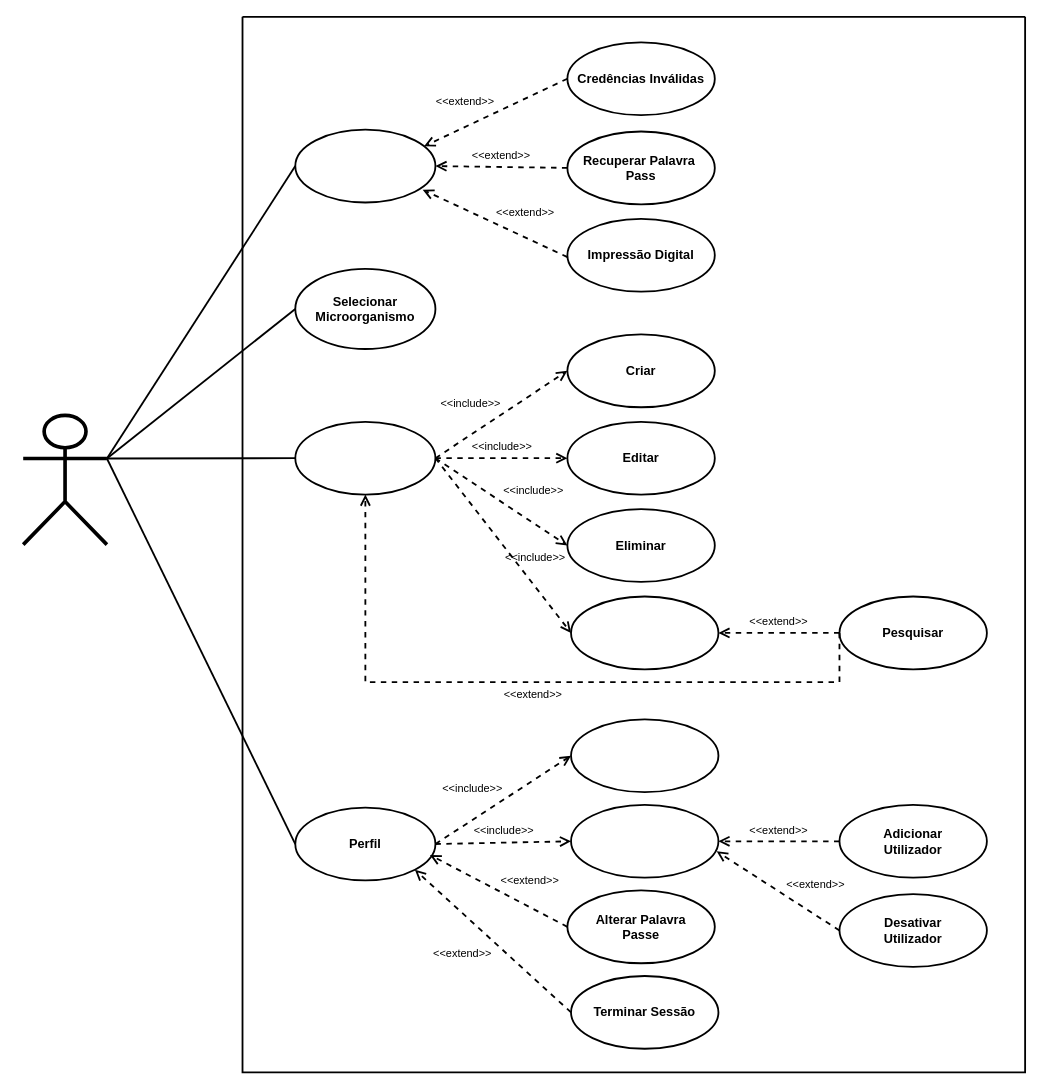
Some shapes in this 1042 by 1088 pixel diagram are drawn without their labels. The box of each missing label's shape, as (x1, y1, x2, y2) in pixels:
Detalhes: (570, 595, 719, 670)
Detalhes do Utilizador: (570, 718, 719, 793)
Lista de Utilizadores: (570, 804, 719, 878)
Listar Bactérias / Leveduras: (294, 420, 436, 495)
LOGIN: (294, 128, 436, 203)
Super Admin: (21, 413, 108, 546)
